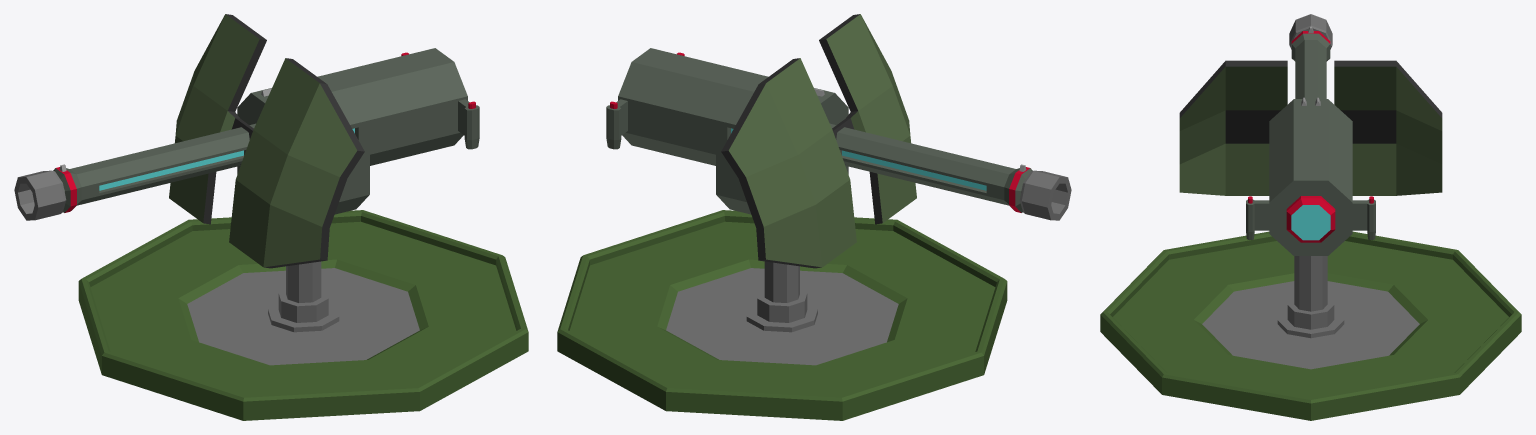
Rendered from Turret.fbx.
3 views of the same model, side by side, from view 1: azimuth 30°, elevation 25°; view 2: azimuth 150°, elevation 25°; view 3: azimuth 270°, elevation 25° (orthographic). The views are drawn at different scales.
Parts seen in each view (by area): view 1: Cylinder, Cylinder.001; view 2: Cylinder, Cylinder.001; view 3: Cylinder, Cylinder.001.
Boxes of the visible parts, x1,y1,x2,y2 form: Cylinder: (78,210,528,420); Cylinder.001: (14,14,479,268); Cylinder: (557,210,1007,420); Cylinder.001: (606,14,1071,268); Cylinder: (1100,231,1521,420); Cylinder.001: (1179,14,1442,255).
Bounding box in the file's own units: 1493 × 849 × 1258.
